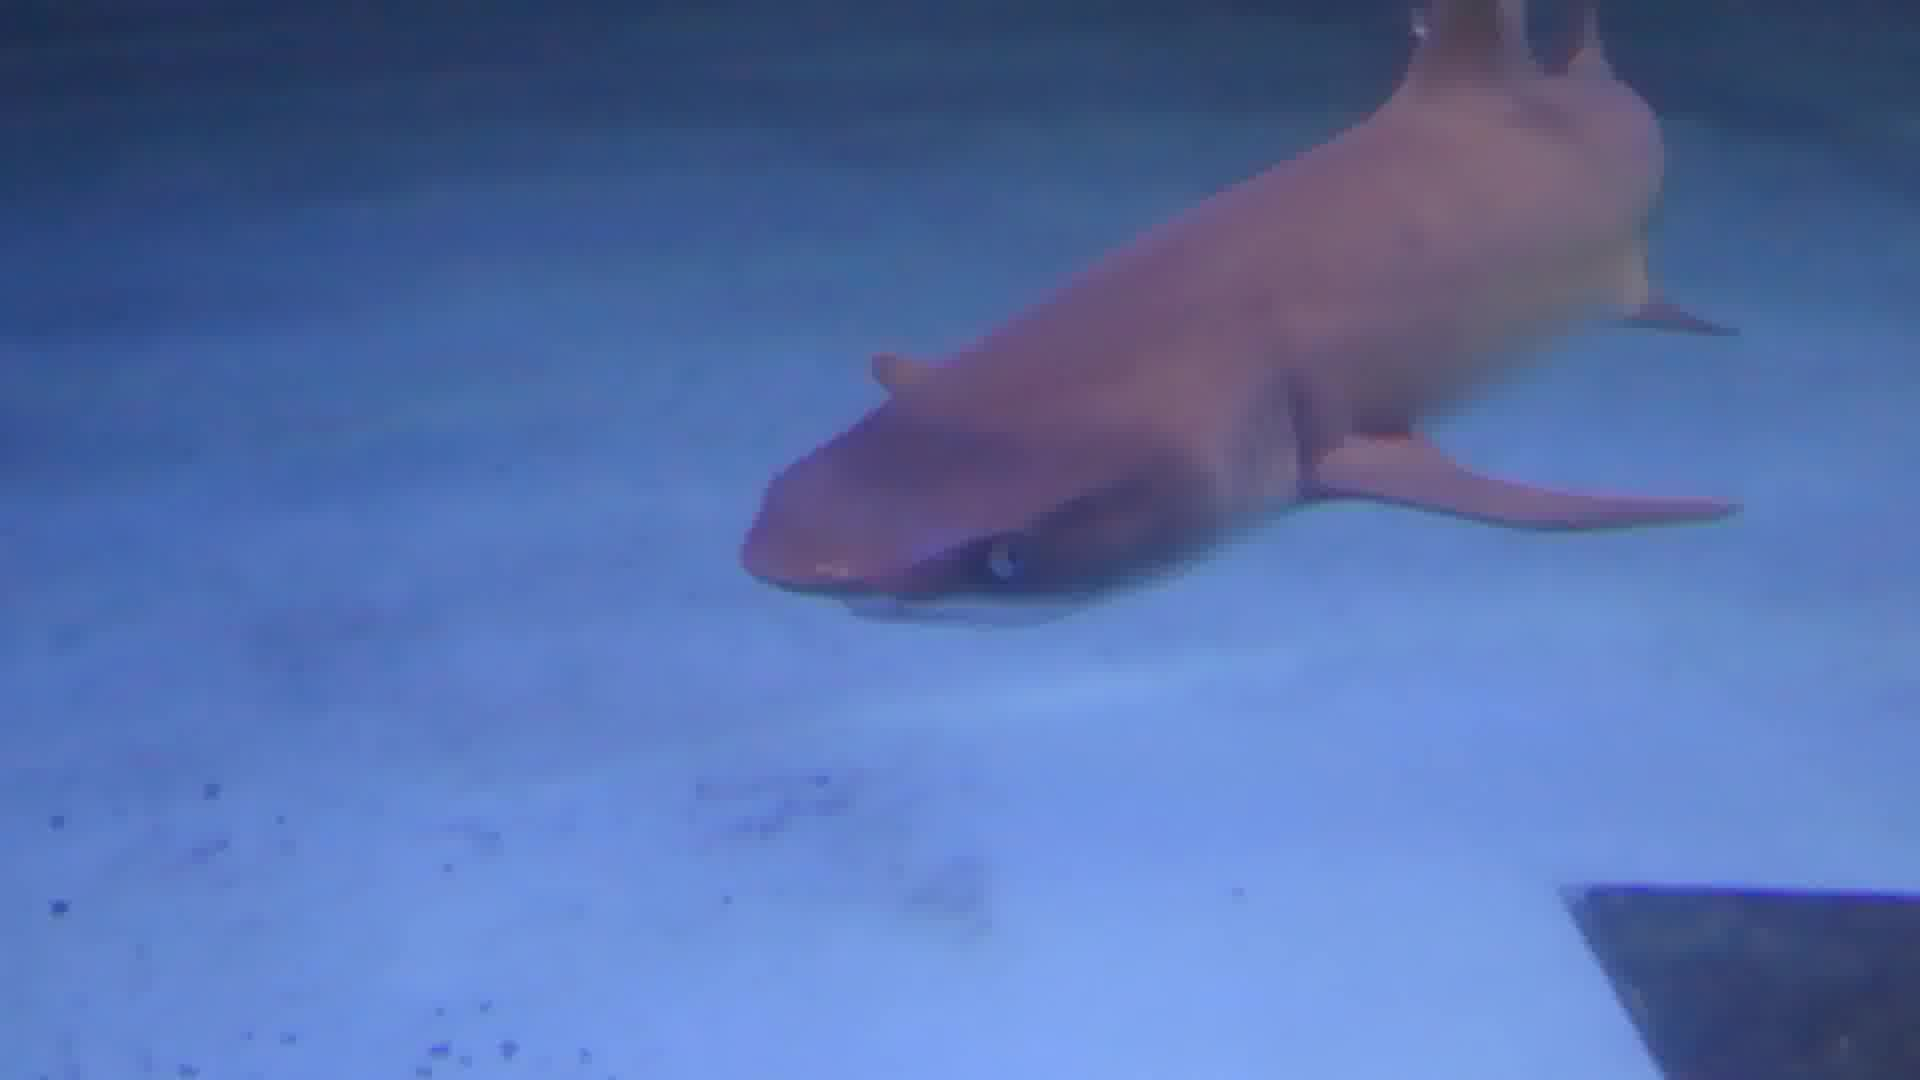Triaenodon obesus: (729, 1, 1741, 651)
